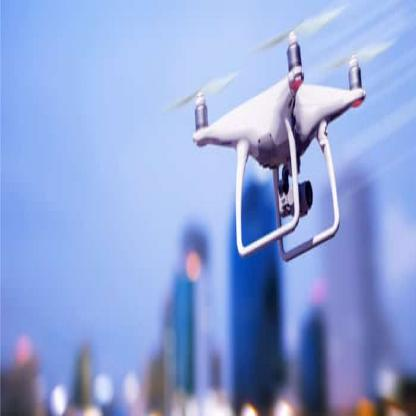drone: (187, 19, 400, 272)
